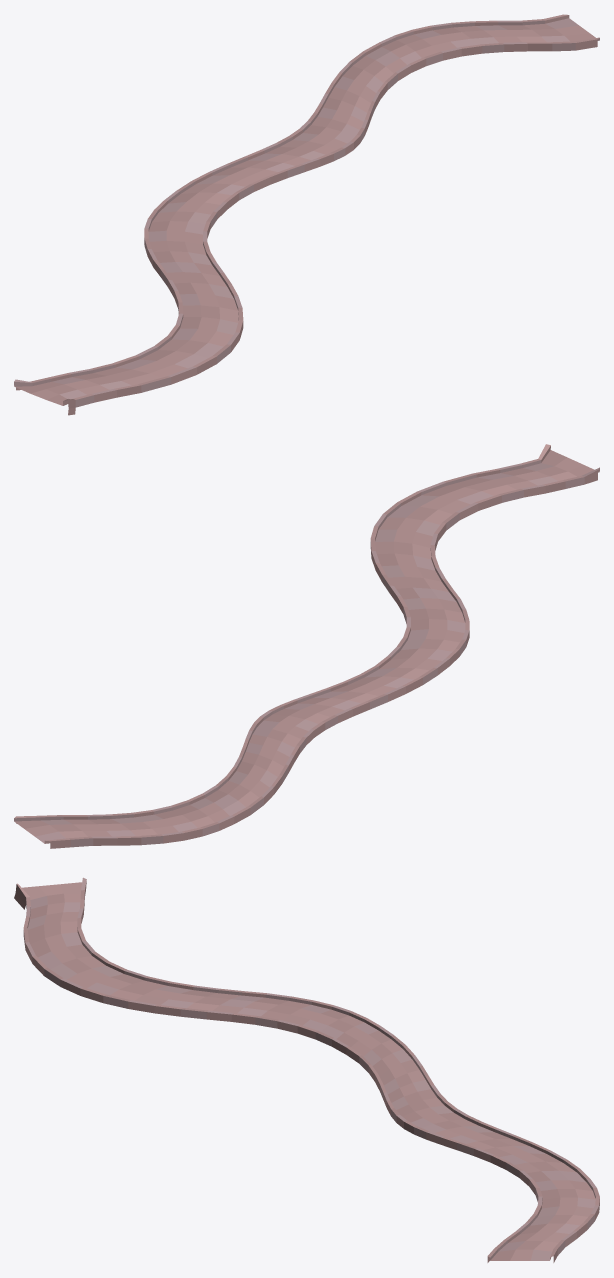
The model's file is Map_WindingPath02.fbx.
3 renders of one model, top to bottom at view 1: azimuth 30°, elevation 25°; view 2: azimuth 210°, elevation 25°; view 3: azimuth 270°, elevation 25°, orthographic. The views are drawn at different scales.
Parts seen in each view (by area): view 1: MSH_Path_Narrow_Long6; view 2: MSH_Path_Narrow_Long6; view 3: MSH_Path_Narrow_Long6.
Boxes of the visible parts, x1=… form: MSH_Path_Narrow_Long6: x1=14, y1=14, x2=599, y2=415; MSH_Path_Narrow_Long6: x1=14, y1=444, x2=599, y2=848; MSH_Path_Narrow_Long6: x1=14, y1=877, x2=599, y2=1262.
Size of the model in its own units: 4353 by 112 by 2858.
